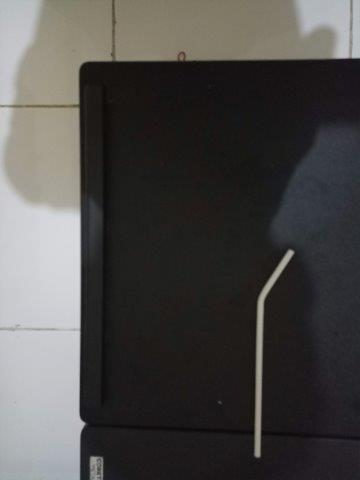sedotan: (254, 249, 295, 457)
